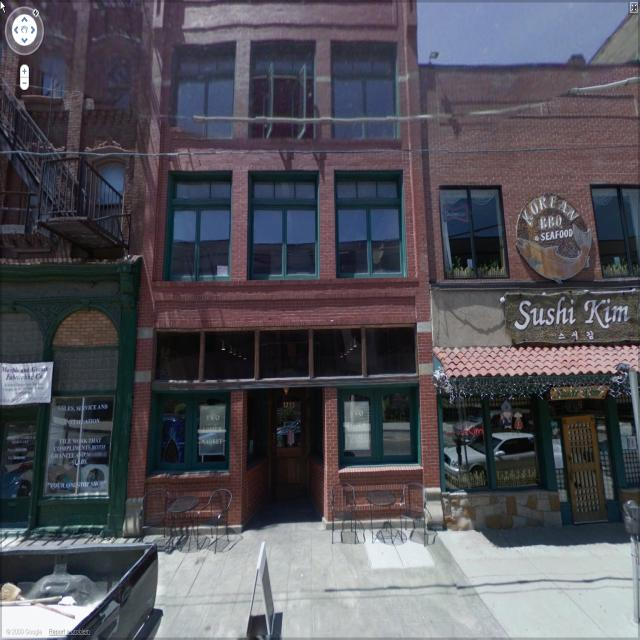window: (160, 172, 236, 280), (333, 171, 405, 276), (249, 173, 319, 277), (328, 45, 402, 140), (248, 42, 317, 140), (168, 45, 236, 141), (46, 405, 113, 502), (439, 187, 511, 277), (491, 397, 547, 490), (592, 178, 640, 278), (440, 398, 490, 488), (89, 52, 133, 120), (32, 49, 70, 104)
